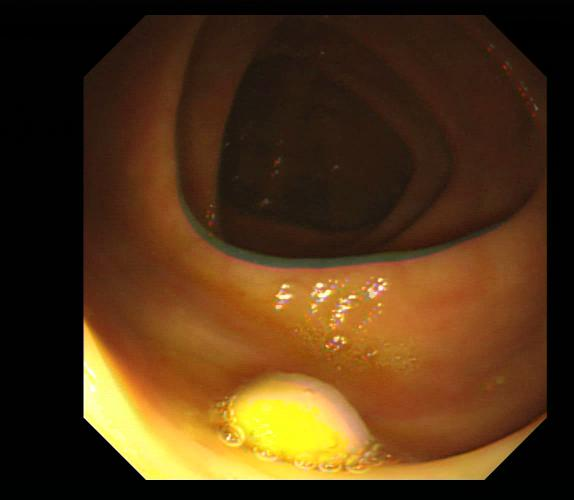polyp: (221, 373, 376, 467)
